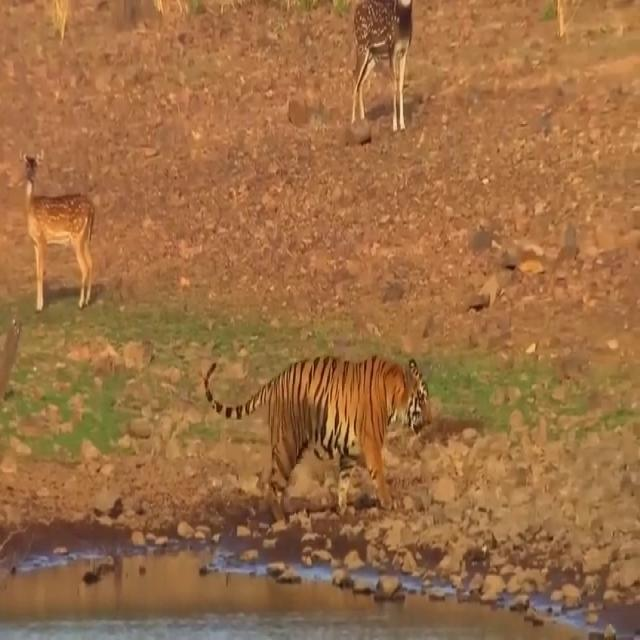tiger: (203, 357, 432, 513)
